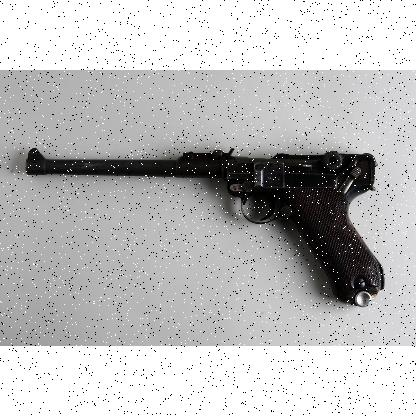gun: (26, 146, 385, 306)
